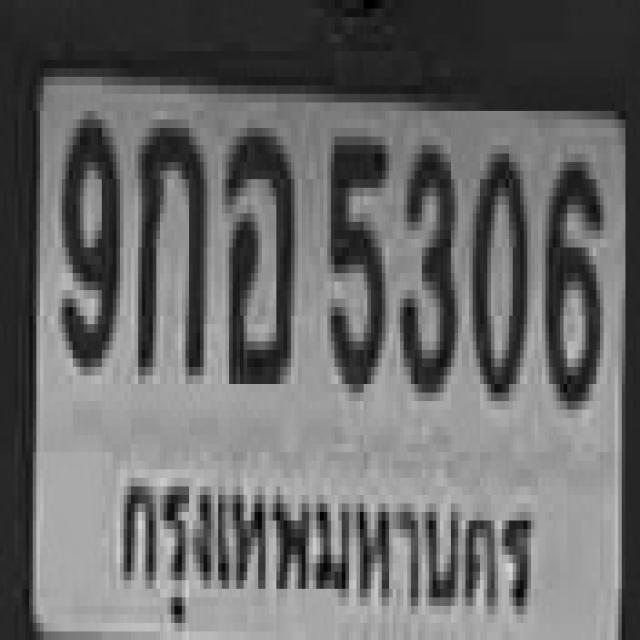0: (471, 151, 526, 398)
10GorGai: (135, 128, 204, 376)
3: (400, 137, 458, 384)
5: (328, 134, 386, 390)
52OrAng: (224, 129, 292, 377)
6: (544, 155, 602, 402)
9: (59, 121, 118, 368)
Bangkok: (108, 463, 540, 629)
